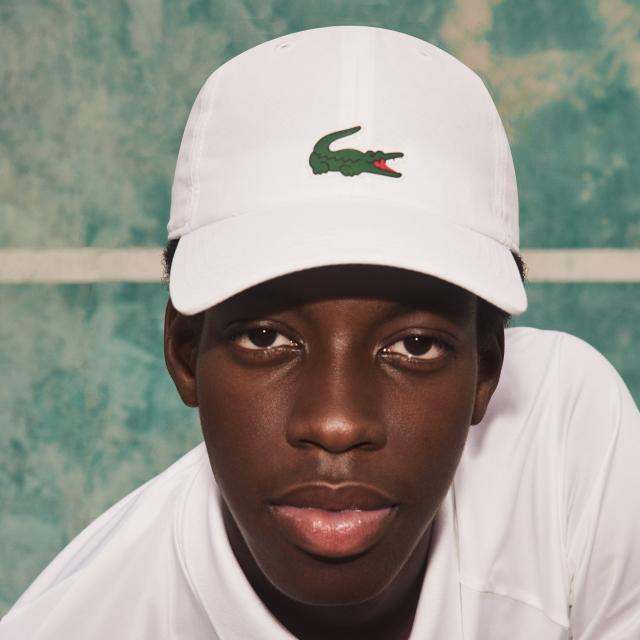Cap: (128, 12, 564, 354)
